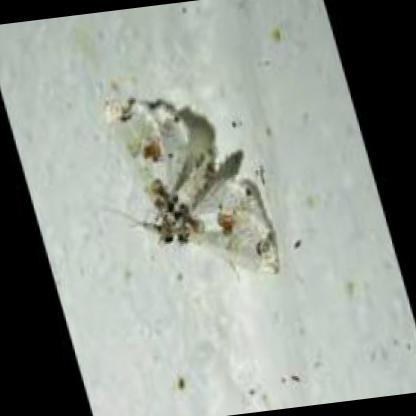leucinodes: (108, 99, 278, 275)
